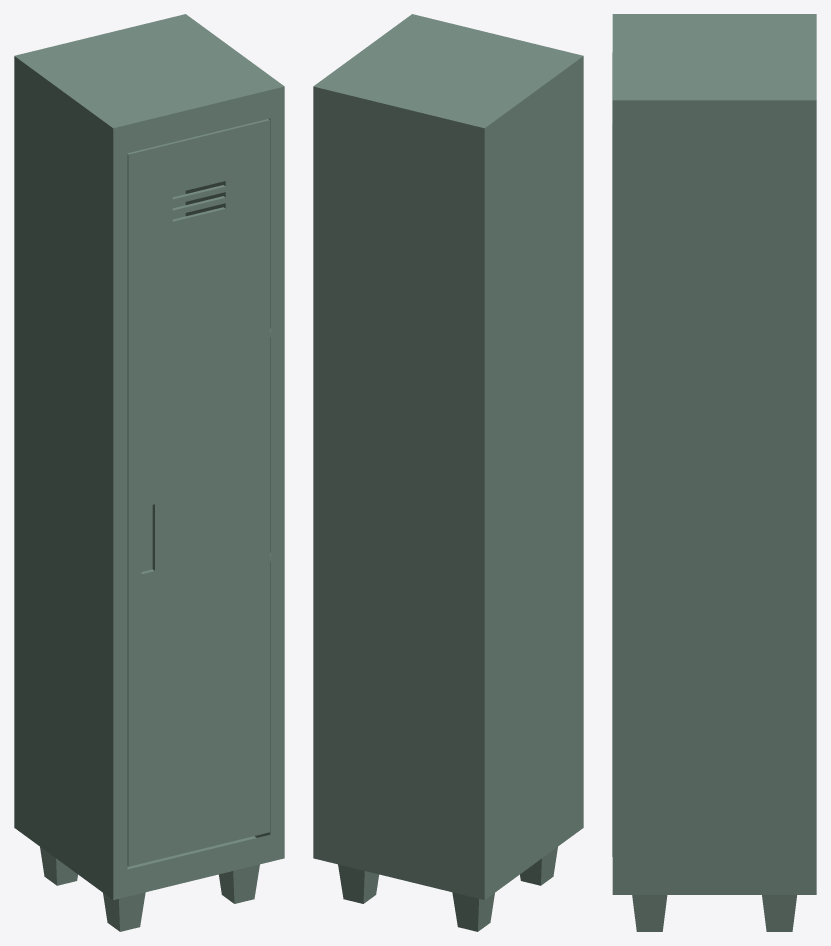
The model's file is armadietto.fbx.
3 renders of one model, left to right at view 1: azimuth 30°, elevation 25°; view 2: azimuth 150°, elevation 25°; view 3: azimuth 270°, elevation 25°, orthographic. The views are drawn at different scales.
Visible parts, largest first — view 1: Armadietto; view 2: Armadietto; view 3: Armadietto.
Boxes of the visible parts, left/top/right/bottom form: Armadietto: left=14, top=14, right=284, bottom=931; Armadietto: left=313, top=14, right=583, bottom=931; Armadietto: left=612, top=14, right=816, bottom=931.
Bounding box in the file's own units: 40 × 182 × 40.07.
